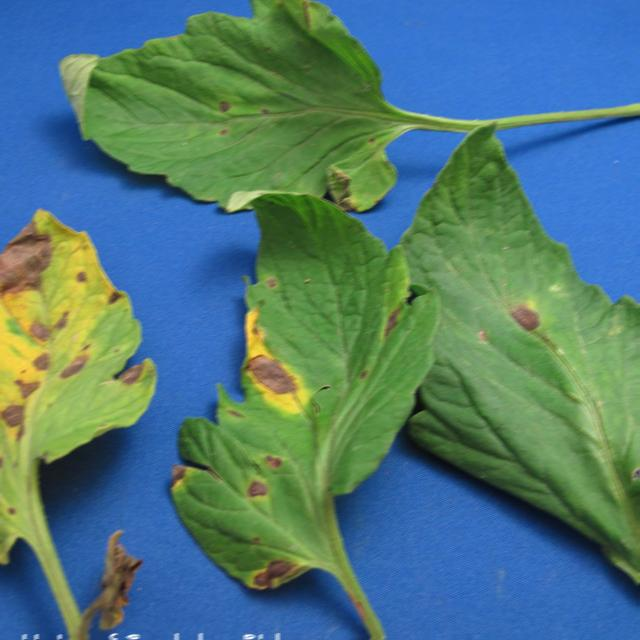Tomato Early blight leaf: (404, 123, 640, 640), (169, 192, 430, 614), (9, 0, 433, 227), (0, 201, 150, 599)
